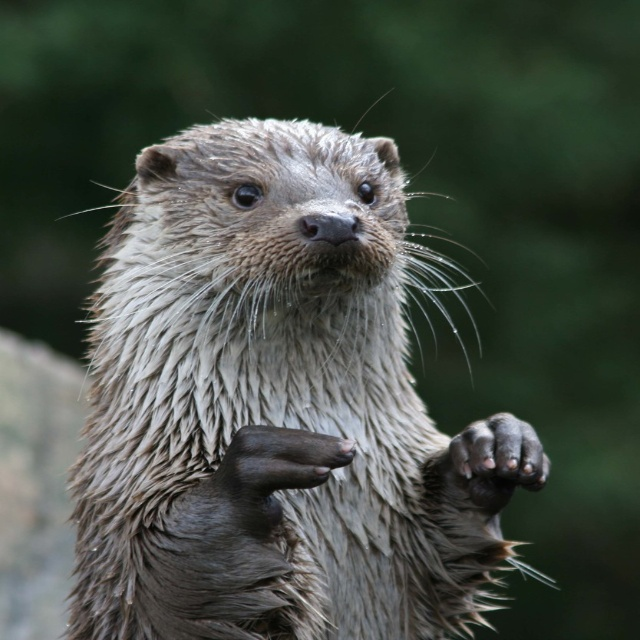Otter: (53, 118, 547, 622)
